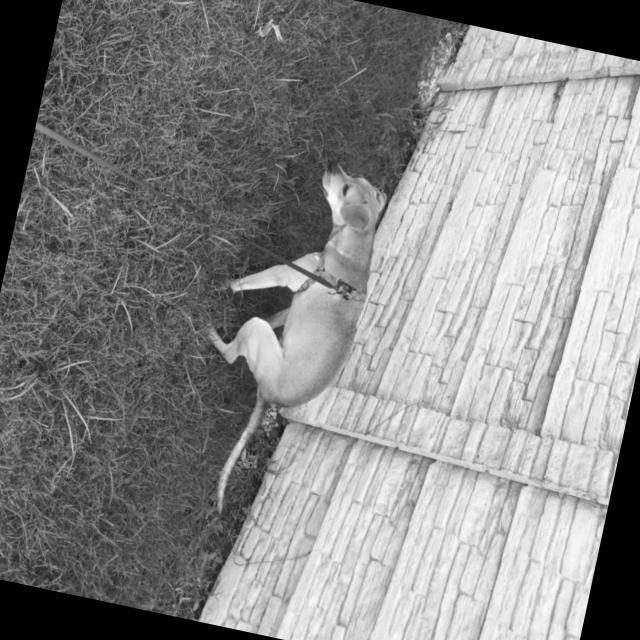squatting: (175, 138, 395, 470)
